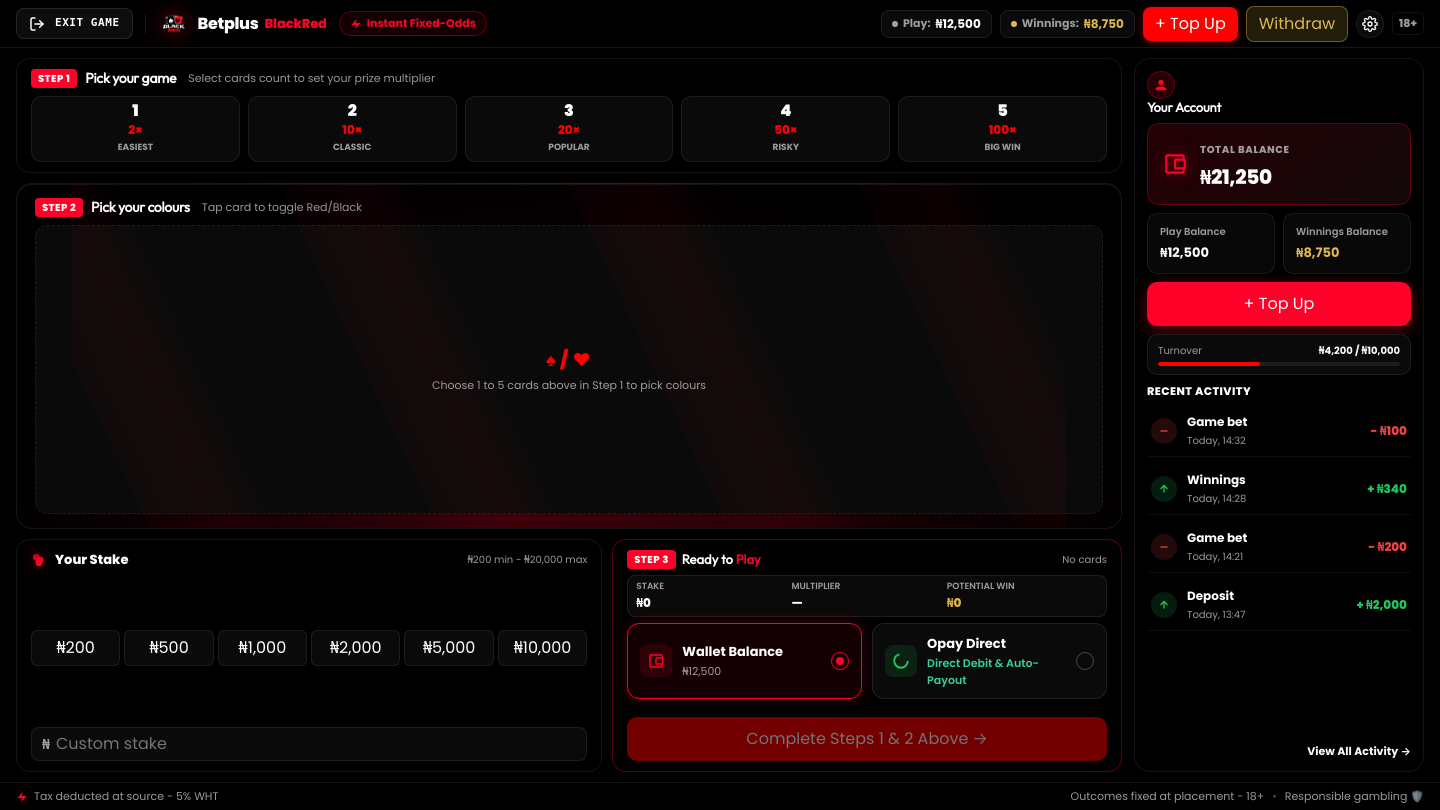
Test: BlackRedGameFlow Dashboard › updates exact multiplier and potential win when configuring game and launches arena modal
Step 1. Click the button "2 10× CLASSIC" → (352, 129), box [248,96,457,162]
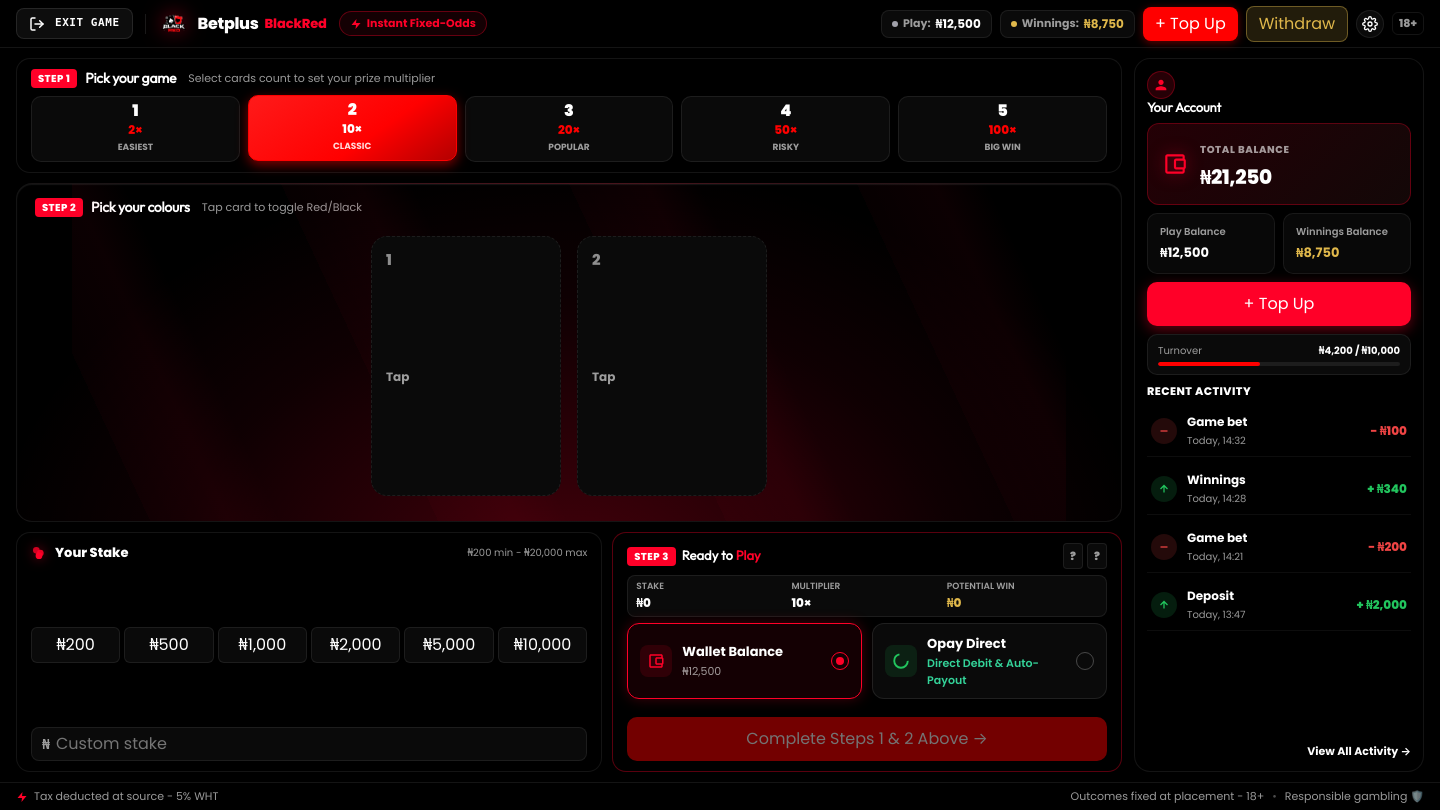
Step 2. Click the button "1 Tap" → (466, 366), box [371,236,561,496]
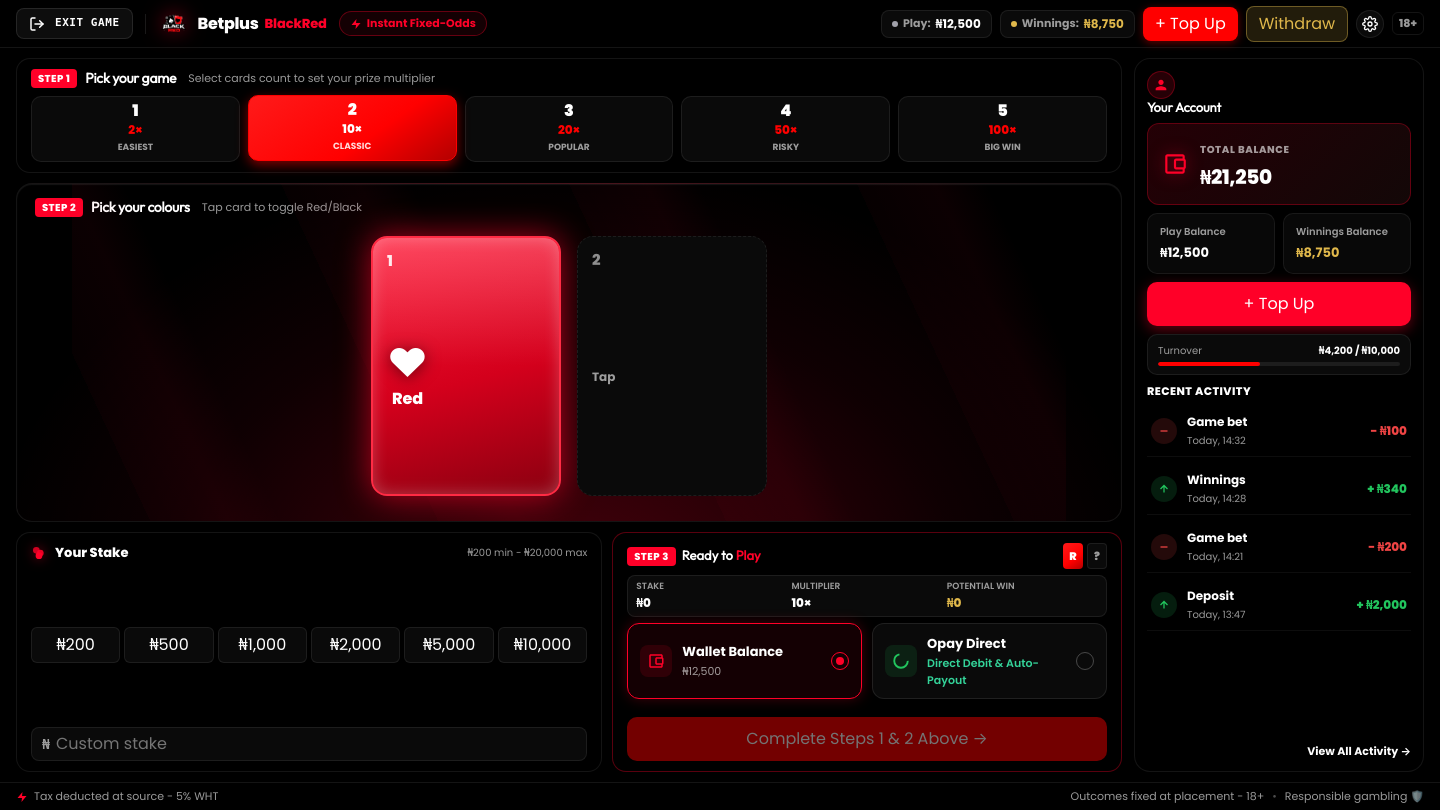
Step 3. Click the button "1 ♥ Red" → (466, 366), box [371,236,561,496]
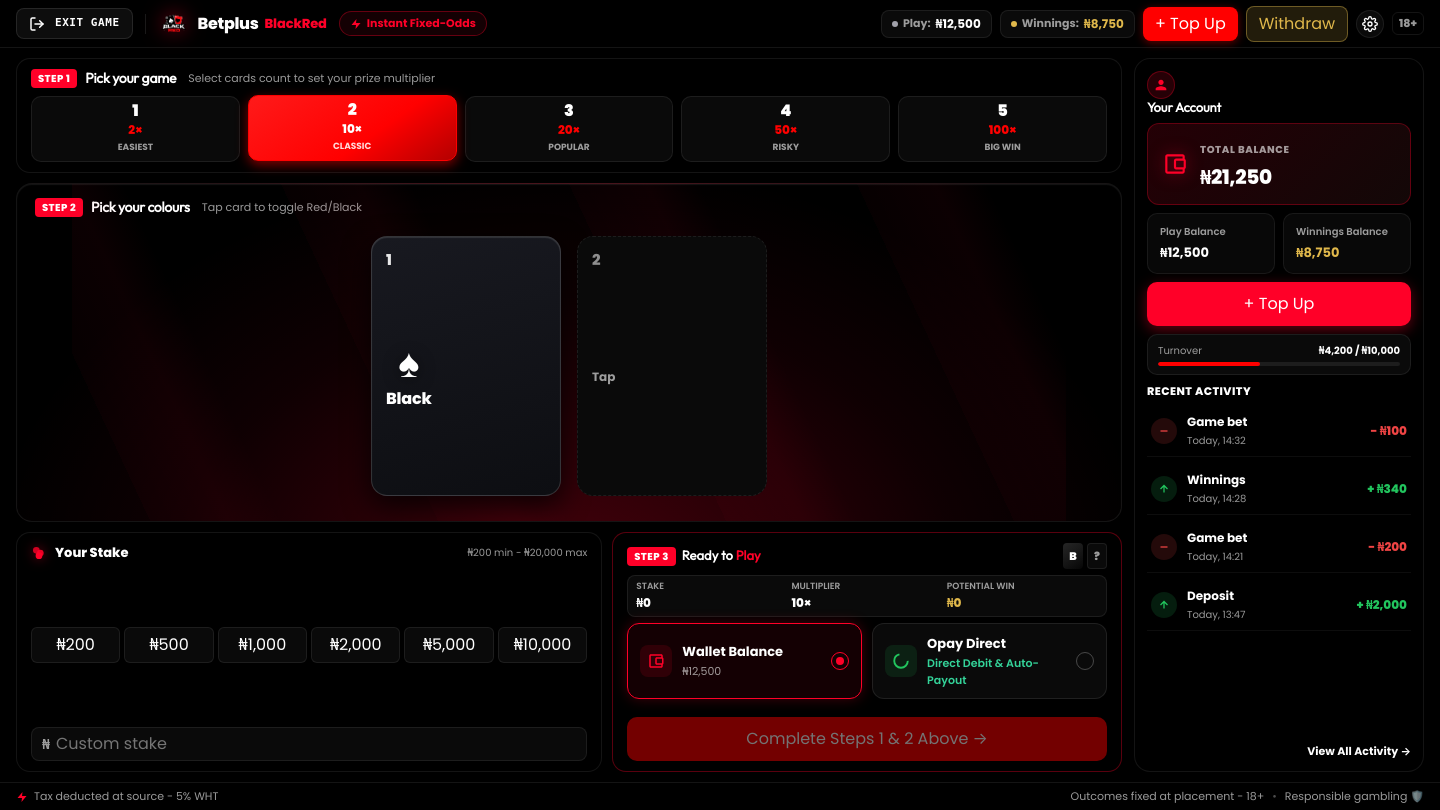
Step 4. Click the button "2 Tap" → (672, 366), box [577,236,767,496]
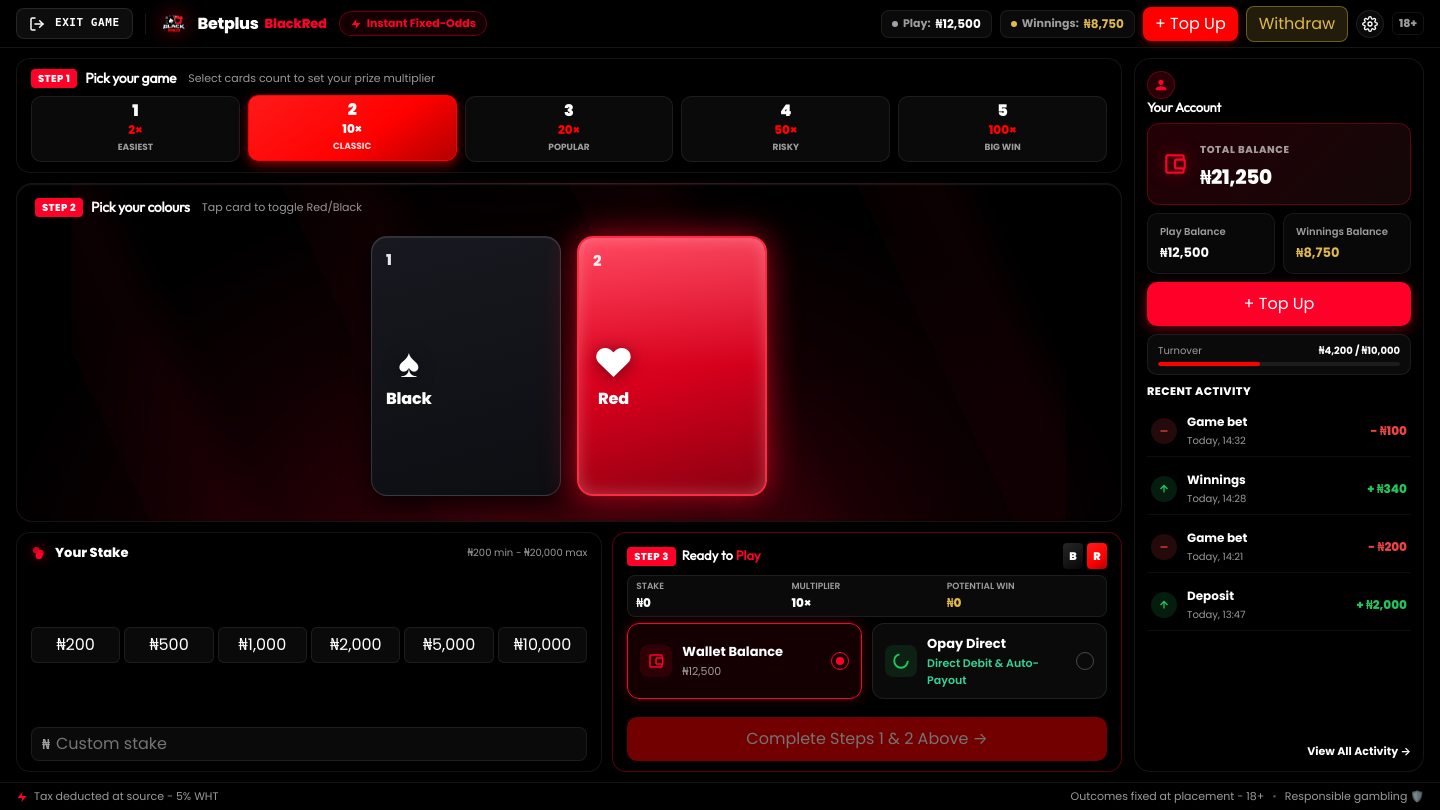
Step 5. Type "1000" into the field named "Stake amount" → (316, 744), box [56,732,576,756]
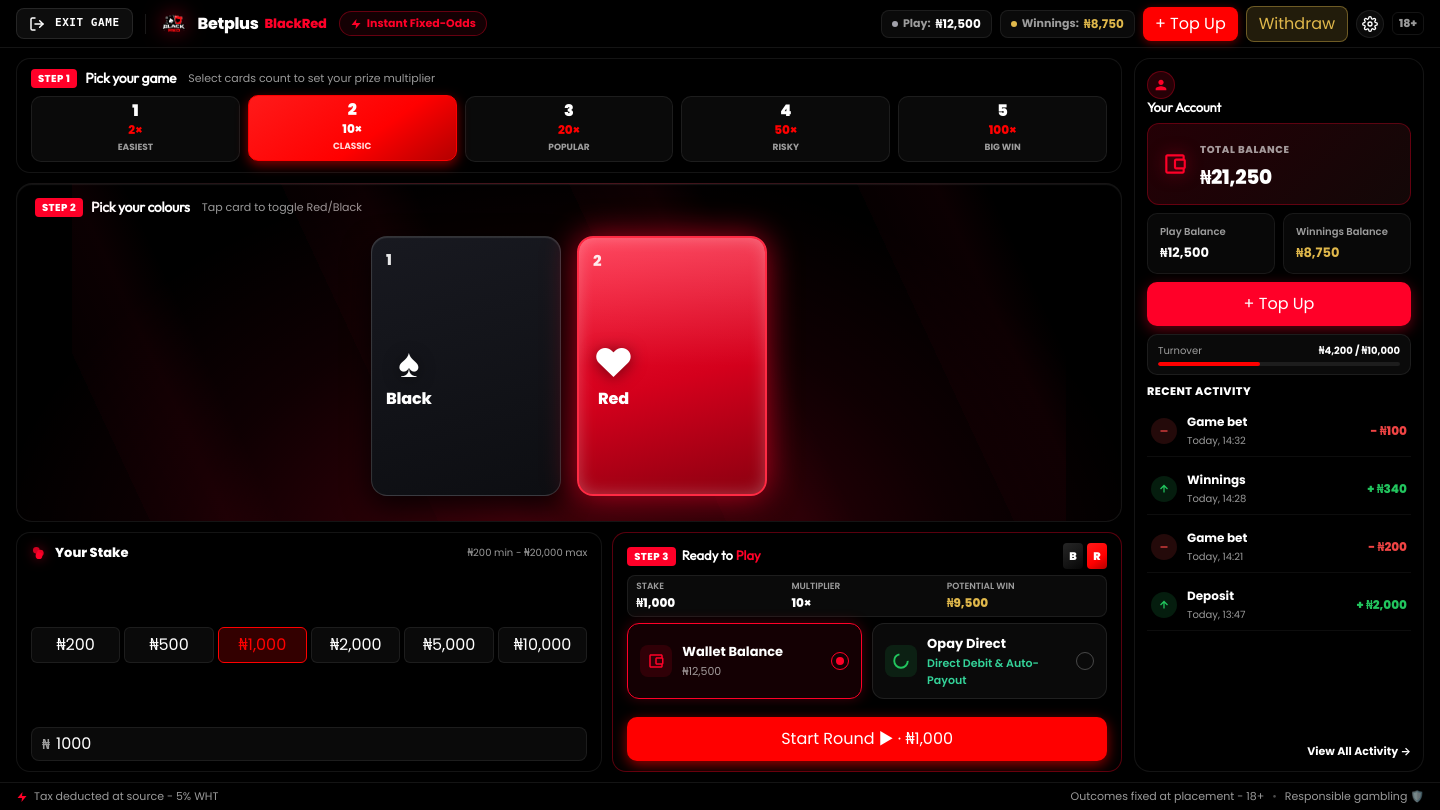
Expected: the text "10×" below "Pick your game" is shown, [342,120,362,137]
Expected: the text "₦9,500" is shown, [947,594,988,610]
Expected: the button "Start Round ▶ · ₦1,000" is enabled
Step 6. Click the button "Start Round ▶ · ₦1,000" → (867, 739), box [627,717,1107,761]
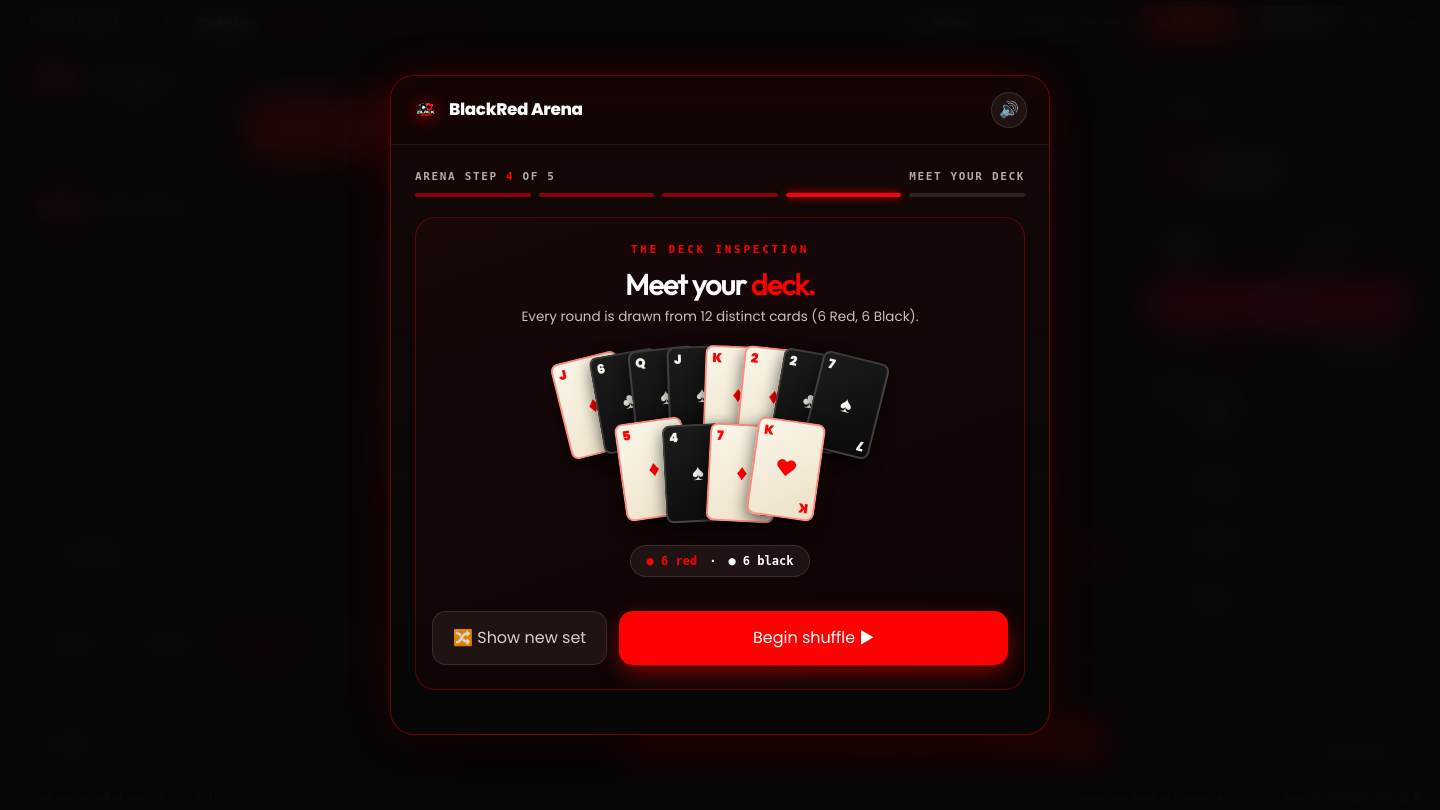
Expected: the dialog "Meet Your Deck" is shown
Expected: the text "6 Black" is shown, [521,307,919,326]
Expected: the button "Begin shuffle ▶" is shown, [619,611,1008,665]
